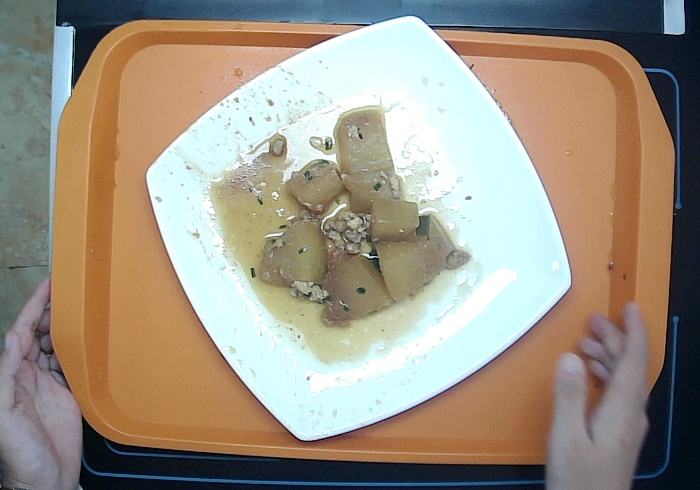ZNLD-Bai_Fang_Pan: (144, 11, 574, 449)
